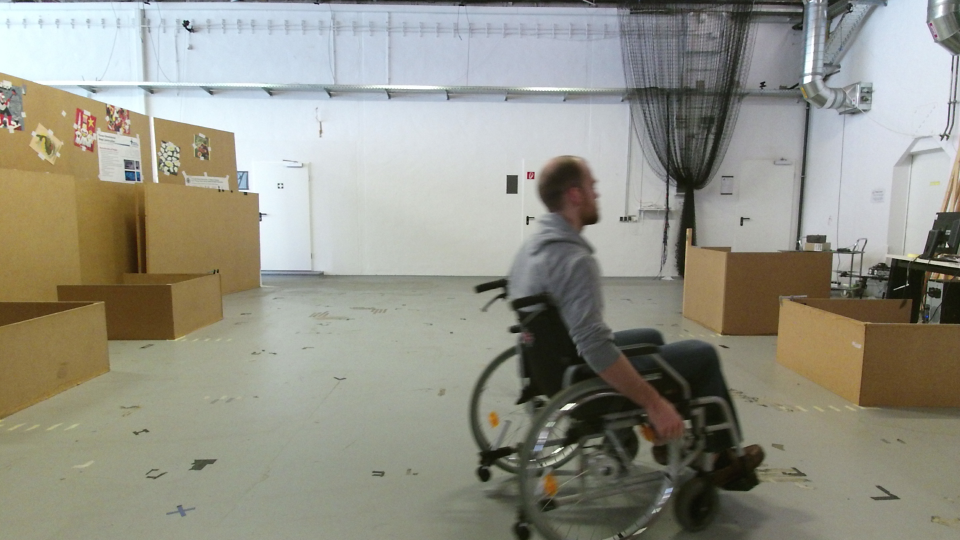wheelchair: (467, 153, 759, 540)
